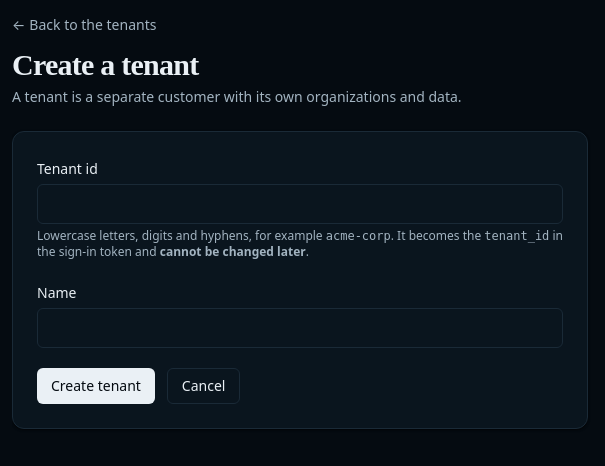
Test: CreateTenantPage › refuses the id Acme
This screenshot has width=605, height=466.
Type "Acme" into the field labelled "Tenant id" at (300, 204), box x1=37 y1=184 x2=563 y2=224
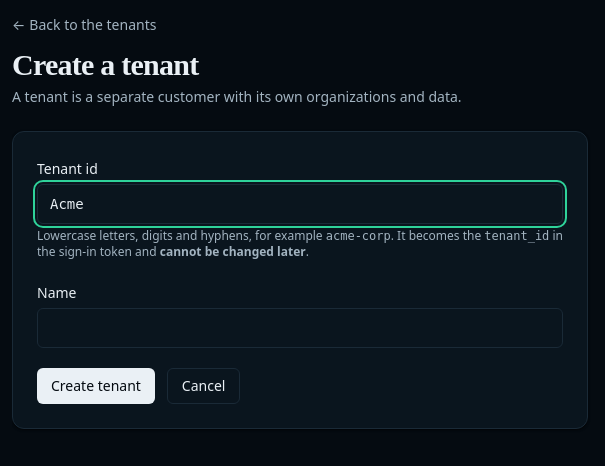
Type "Name" into the field labelled "Name" at (300, 328), box x1=37 y1=308 x2=563 y2=348
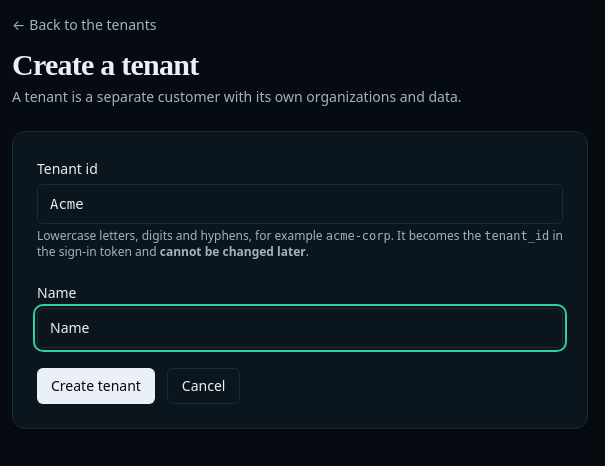
Click the button "Create tenant" at (96, 386), box x1=37 y1=368 x2=155 y2=404
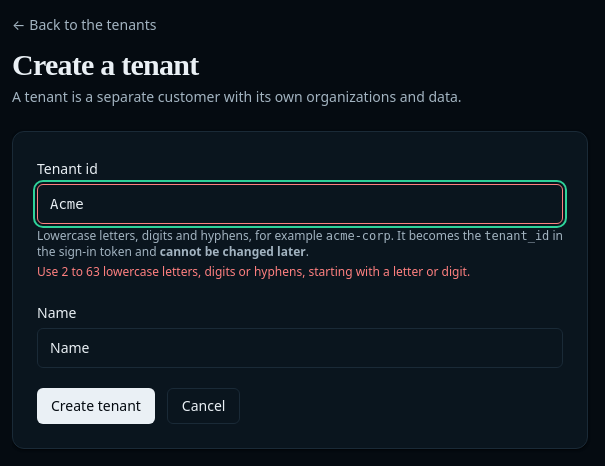
Check: the text "Use 2 to 63 lowercase letters" is shown, box x1=37 y1=263 x2=470 y2=280
